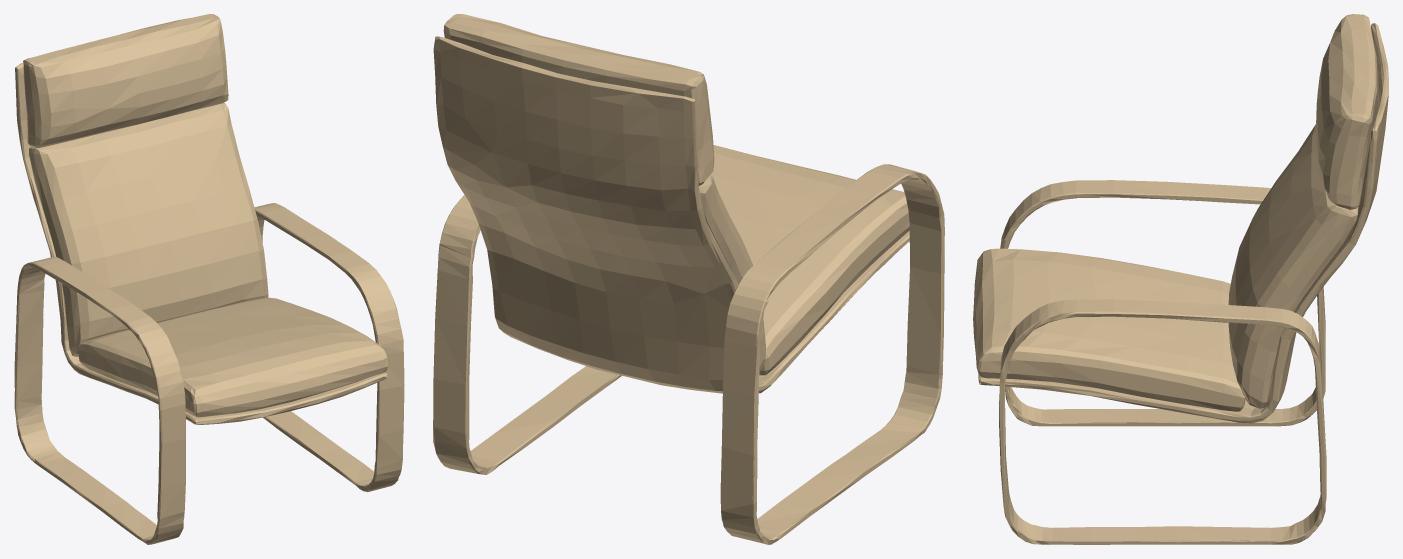
Rendered from gen-armchair-cantilever-bentwood-1.glb.
3 views of the same model, side by side, from view 1: azimuth 30°, elevation 25°; view 2: azimuth 150°, elevation 25°; view 3: azimuth 270°, elevation 25° (orthographic). The views are drawn at different scales.
Parts seen in each view (by area): view 1: gen-armchair-cantilever-bentwood-1_part1; view 2: gen-armchair-cantilever-bentwood-1_part1; view 3: gen-armchair-cantilever-bentwood-1_part1.
Part boxes in pixels (x1,y1,x2,y2): gen-armchair-cantilever-bentwood-1_part1: [14, 14, 404, 544]; gen-armchair-cantilever-bentwood-1_part1: [433, 14, 944, 544]; gen-armchair-cantilever-bentwood-1_part1: [973, 14, 1388, 544].
Size of the model in its own units: 691 by 1000 by 912.
